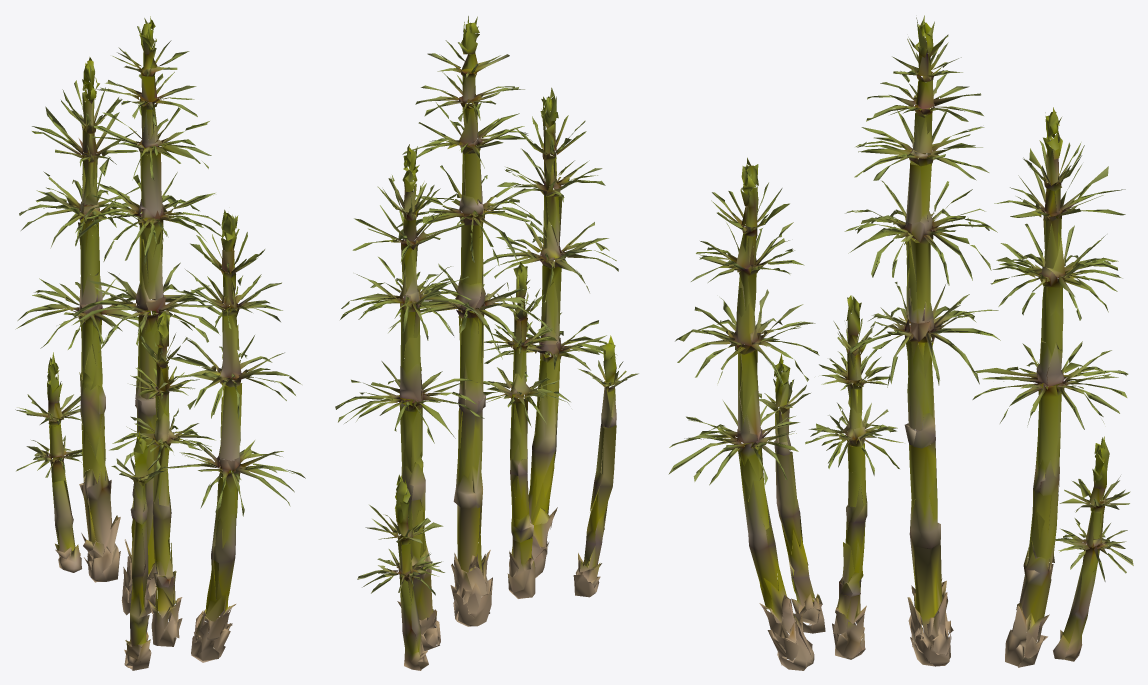
The model's file is triassic-neocalamites.glb.
3 renders of one model, left to right at view 1: azimuth 30°, elevation 25°; view 2: azimuth 150°, elevation 25°; view 3: azimuth 270°, elevation 25°, orthographic. The views are drawn at different scales.
Visible parts, largest first — view 1: neocalamites; view 2: neocalamites; view 3: neocalamites.
Boxes of the visible parts, x1=… form: neocalamites: x1=15, y1=16, x2=305, y2=670; neocalamites: x1=335, y1=16, x2=638, y2=670; neocalamites: x1=668, y1=15, x2=1133, y2=670.
Size of the model in its own units: 0.8661 by 3 by 1.94.
